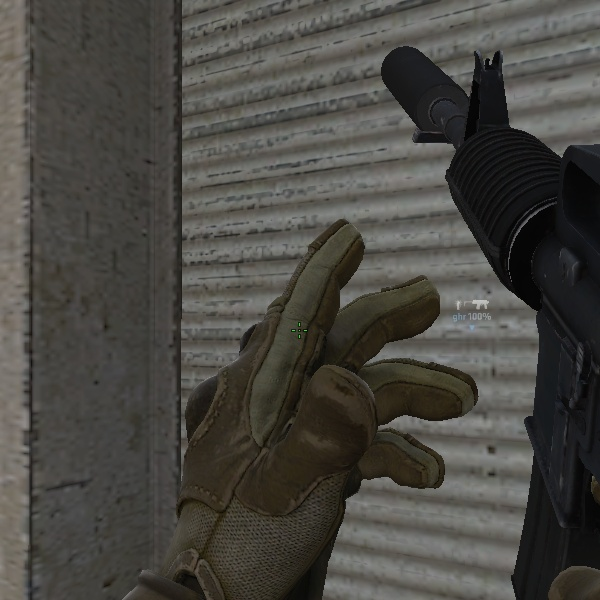ct_body: (173, 15, 600, 593)
